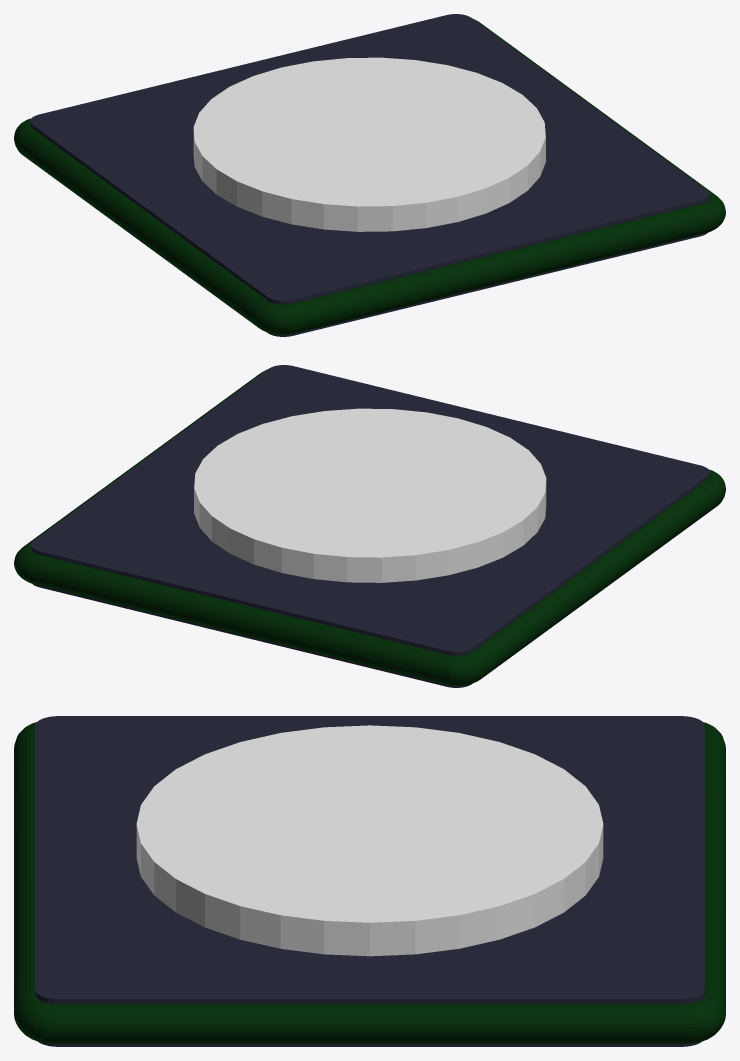
The model's file is floor_hole.fbx.
3 views of the same model, one above another, from view 1: azimuth 30°, elevation 25°; view 2: azimuth 150°, elevation 25°; view 3: azimuth 270°, elevation 25° (orthographic). The views are drawn at different scales.
Parts seen in each view (by area): view 1: Cube, Cylinder, border_posts, Cube.001; view 2: Cube, Cylinder, border_posts, Cube.001; view 3: Cube, Cylinder, border_posts, Cube.001.
Boxes of the visible parts, bbox=[...] form: Cube: bbox=[30, 14, 708, 304]; Cylinder: bbox=[193, 57, 545, 231]; border_posts: bbox=[14, 18, 725, 334]; Cube.001: bbox=[267, 233, 706, 336]; Cube: bbox=[31, 365, 709, 655]; Cylinder: bbox=[194, 408, 546, 582]; border_posts: bbox=[14, 369, 725, 685]; Cube.001: bbox=[33, 584, 472, 687]; Cube: bbox=[35, 716, 704, 1003]; Cylinder: bbox=[136, 725, 603, 956]; border_posts: bbox=[14, 722, 725, 1043]; Cube.001: bbox=[38, 1041, 701, 1046].
Size of the model in its own units: 340 by 60.49 by 340.
